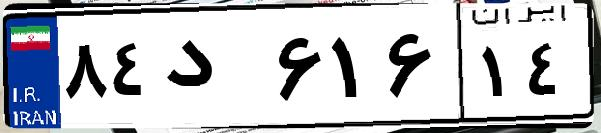1: (330, 28, 385, 110), (475, 38, 525, 113)
4: (525, 38, 570, 115), (110, 28, 158, 98)
6: (270, 28, 330, 110), (385, 28, 445, 110)
8: (57, 26, 110, 100)
د: (158, 20, 270, 120)
